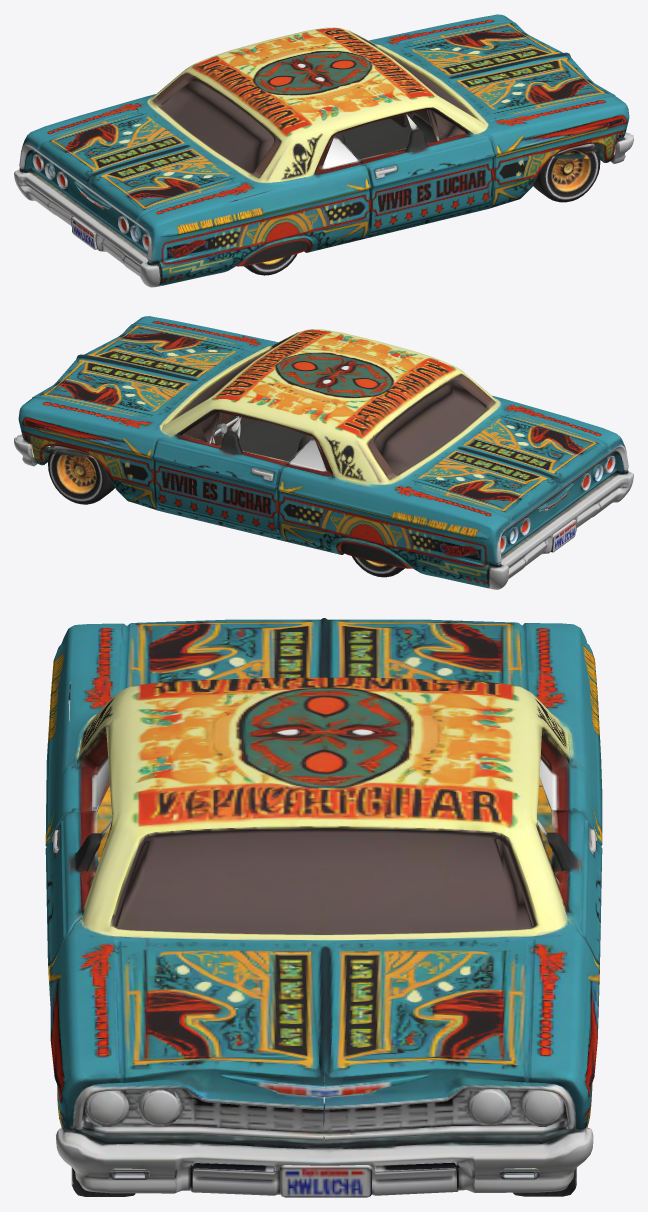
The model's file is model_url.fbx.
The picture shows the model from 3 angles, top to bottom: view 1: azimuth 30°, elevation 25°; view 2: azimuth 150°, elevation 25°; view 3: azimuth 270°, elevation 25°; orthographic projection. The views are drawn at different scales.
Parts seen in each view (by area): view 1: tripo_node_f978c962; view 2: tripo_node_f978c962; view 3: tripo_node_f978c962.
Part boxes in pixels (x1=…): tripo_node_f978c962: x1=14, y1=14, x2=633, y2=287; tripo_node_f978c962: x1=14, y1=316, x2=633, y2=589; tripo_node_f978c962: x1=45, y1=618, x2=602, y2=1197.
Size of the model in its own units: 99.95 by 25.63 by 48.49.
Materials: 1 (1 with a texture image).
